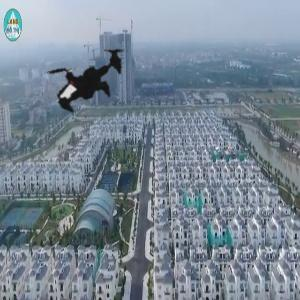drone: (24, 12, 151, 139)
